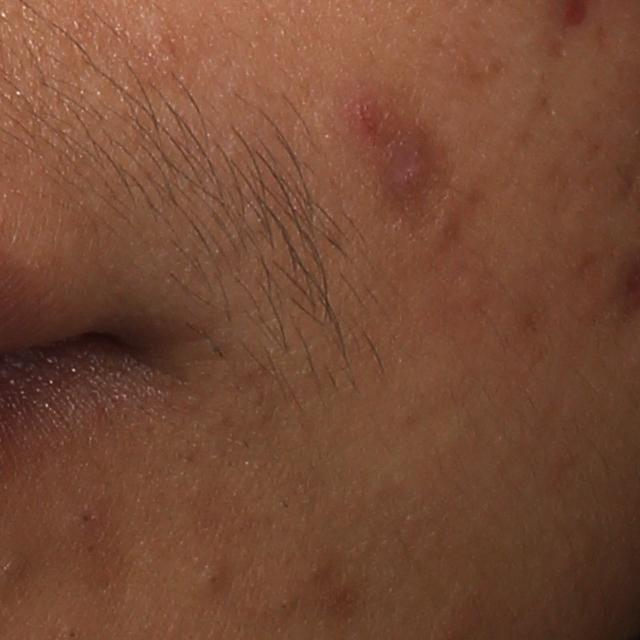comedo: (201, 560, 230, 594)
